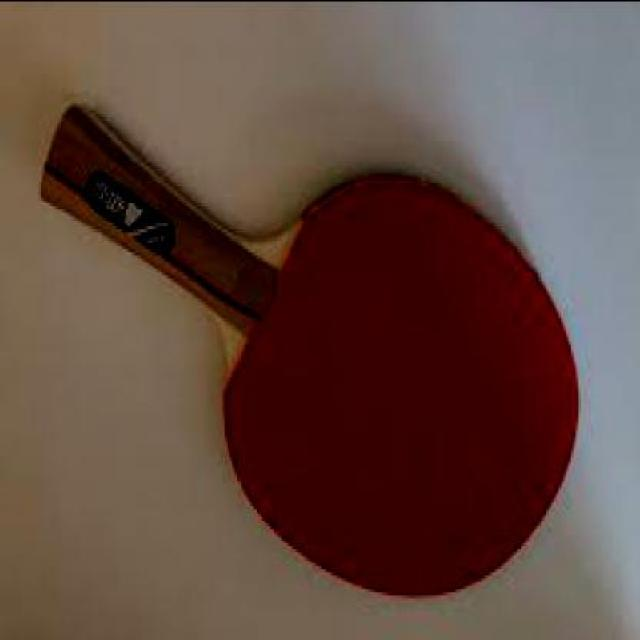table_tennis_racket: (40, 105, 582, 602)
